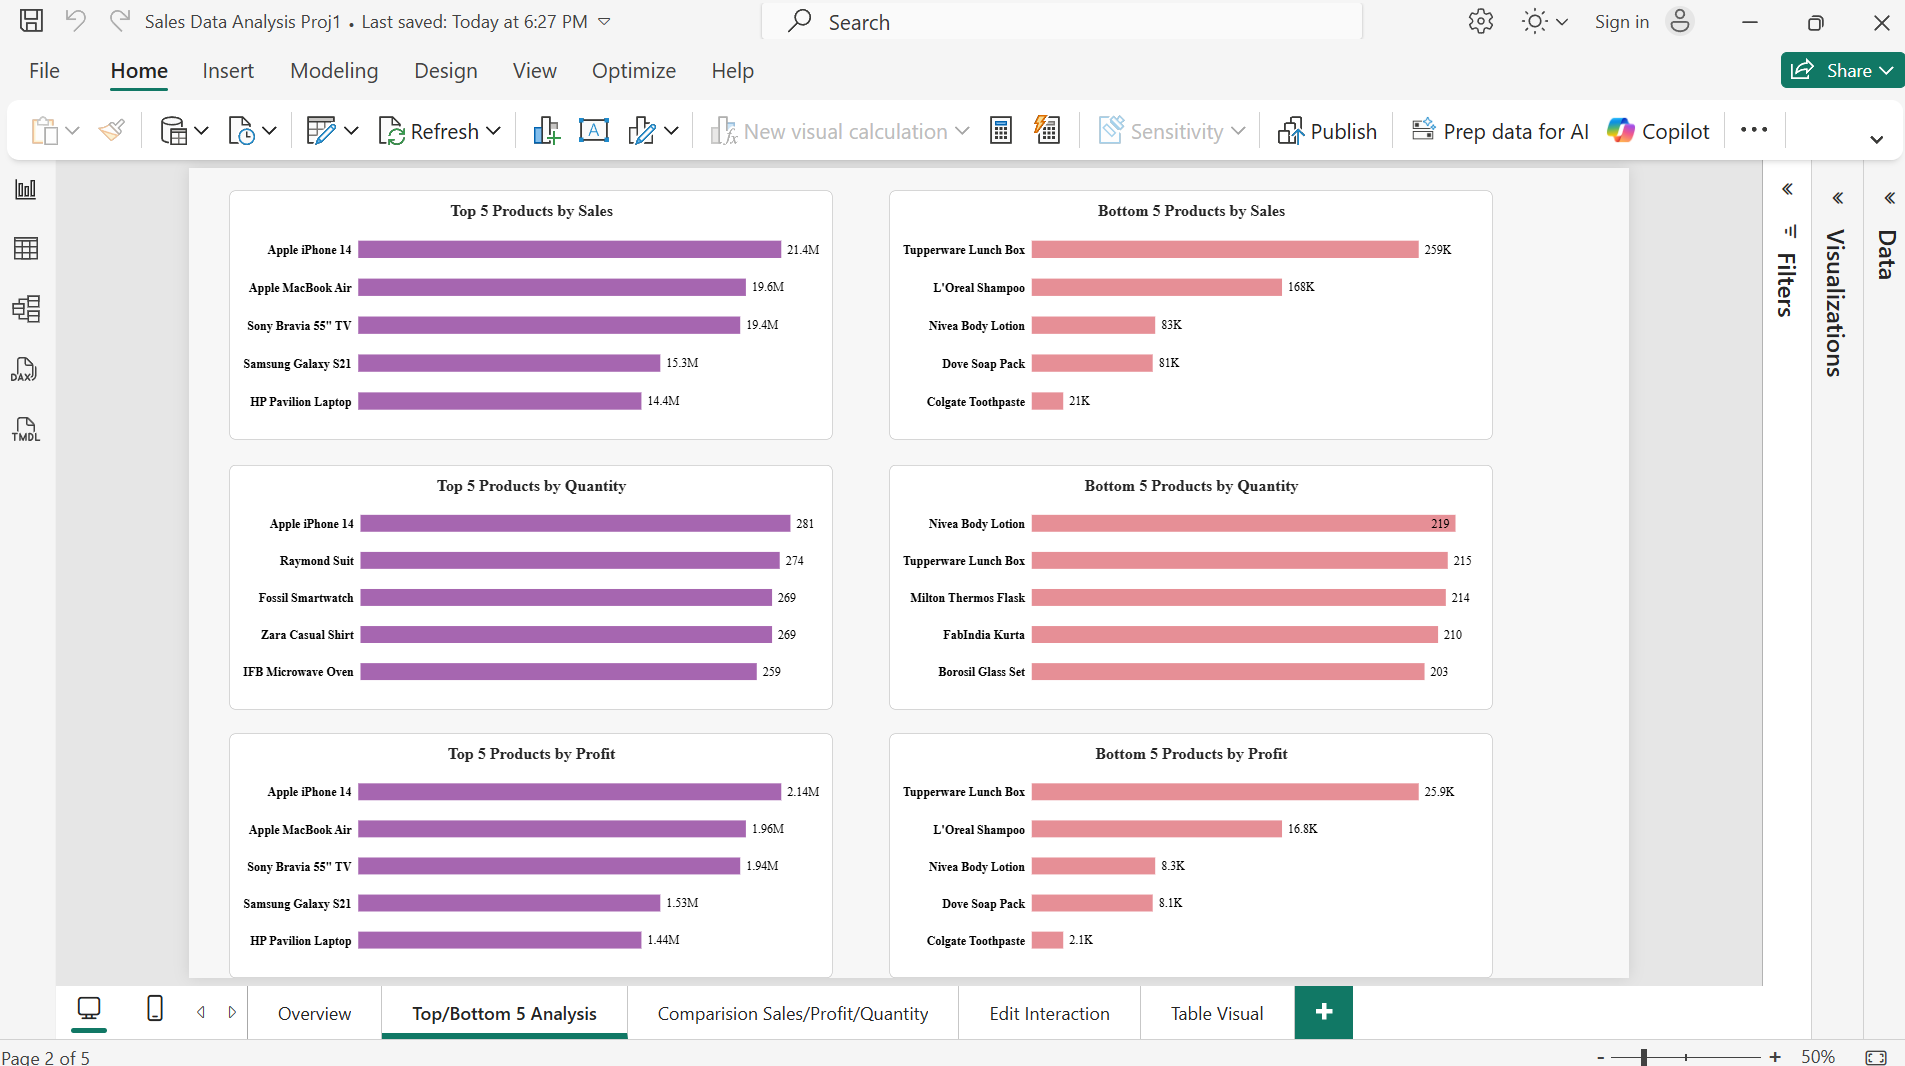

Layout of this report page (visuals, bound fields, positions):
{"tool":"powerbi","page":{"name":"Top/Bottom 5 Analysis","canvas":[1920,1080],"ordinal":1},"visuals":[{"type":"barChart","title":"Top 5 Products by Sales","fields":{"Category":["Dim Product.Product Name"],"Y":["Sum(Fact Table.Net Sales)"]},"box":[54,30,804,332],"z":0},{"type":"barChart","title":"Bottom 5 Products by Sales","fields":{"Category":["Dim Product.Product Name"],"Y":["Sum(Fact Table.Net Sales)"]},"box":[934,30,804,332],"z":1000},{"type":"barChart","title":"Top 5 Products by Quantity","fields":{"Category":["Dim Product.Product Name"],"Y":["Sum(Fact Table.Units Sold)"]},"box":[54,396,804,326],"z":2000},{"type":"barChart","title":"Bottom 5 Products by Quantity","fields":{"Category":["Dim Product.Product Name"],"Y":["Sum(Fact Table.Units Sold)"]},"box":[934,396,804,326],"z":3000},{"type":"barChart","title":"Top 5 Products by Profit","fields":{"Category":["Dim Product.Product Name"],"Y":["Sum(Fact Table.Profit)"]},"box":[54,754,804,326],"z":4000},{"type":"barChart","title":"Bottom 5 Products by Profit","fields":{"Category":["Dim Product.Product Name"],"Y":["Sum(Fact Table.Profit)"]},"box":[934,754,804,326],"z":5000}]}

Visuals, with their boxes on the page's 1920x1080 design canvas (x1, y1, x2, y2). These are canvas units, not pixel positions in the 1905x1066 screenshot, which may show the page scaled, cropped or inside an application window:
"Top 5 Products by Sales" barChart: x1=54 y1=30 x2=858 y2=362
"Bottom 5 Products by Sales" barChart: x1=934 y1=30 x2=1738 y2=362
"Top 5 Products by Quantity" barChart: x1=54 y1=396 x2=858 y2=722
"Bottom 5 Products by Quantity" barChart: x1=934 y1=396 x2=1738 y2=722
"Top 5 Products by Profit" barChart: x1=54 y1=754 x2=858 y2=1080
"Bottom 5 Products by Profit" barChart: x1=934 y1=754 x2=1738 y2=1080
